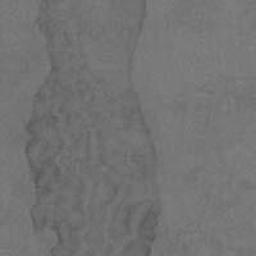Water spot: (23, 0, 163, 256)
